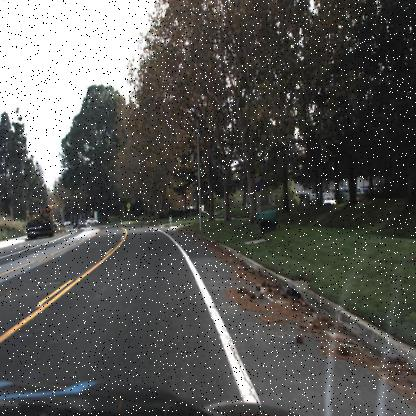truck: (24, 200, 55, 240)
